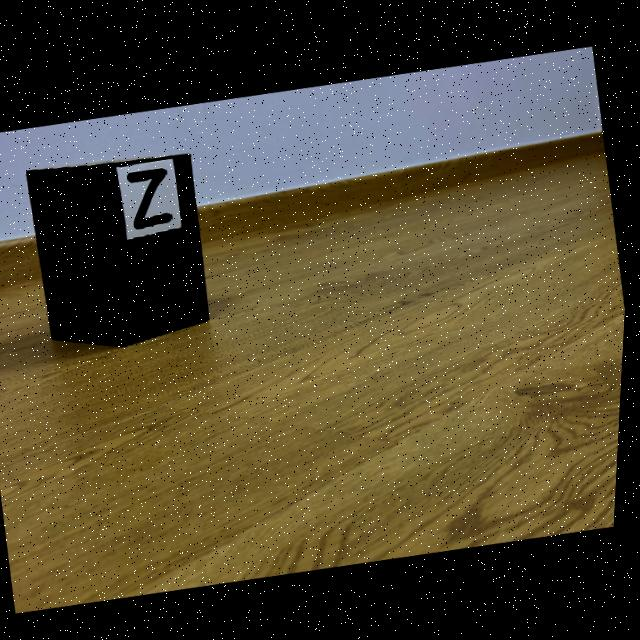Z: (129, 166, 174, 228)
